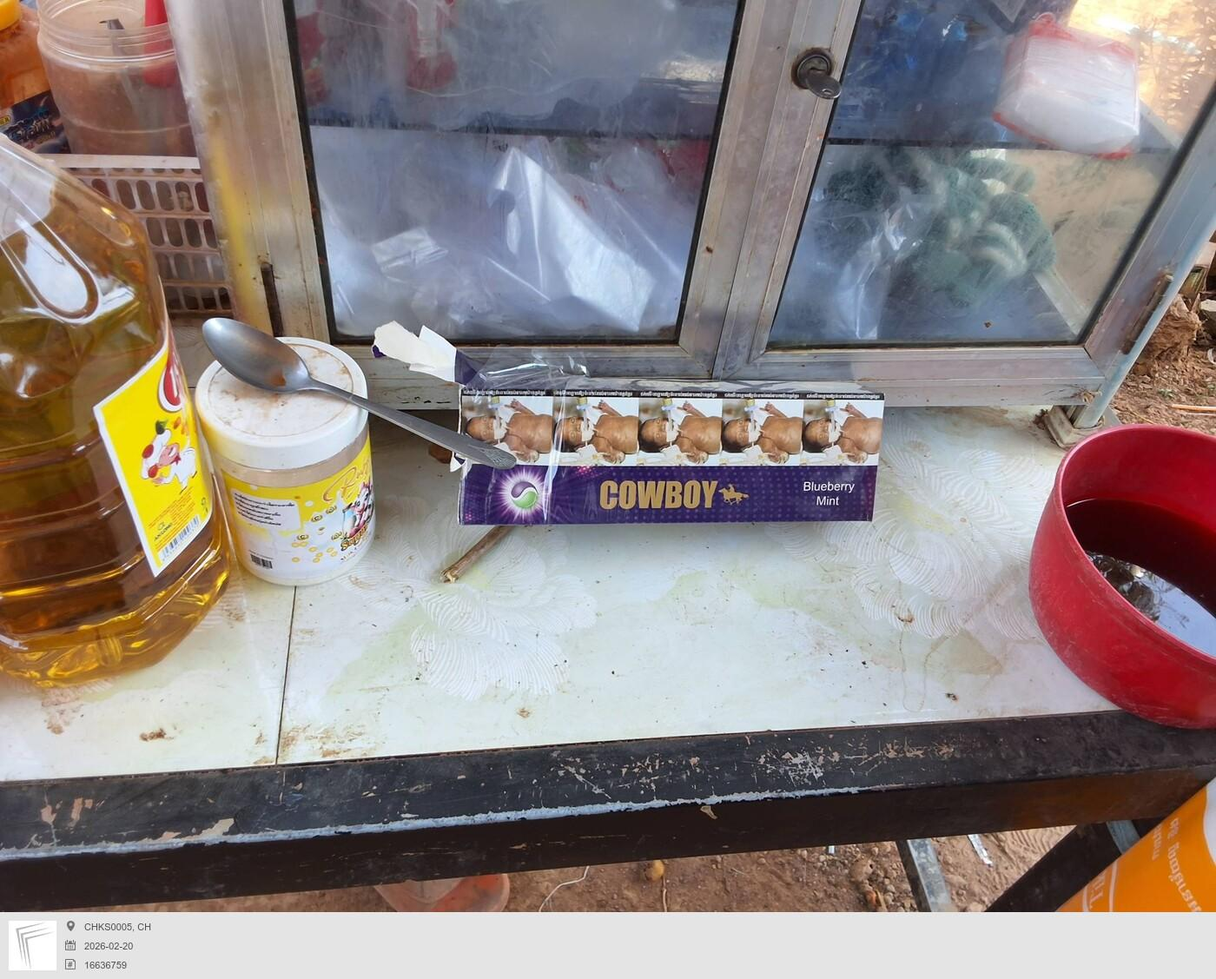cigarette_pack: (458, 328, 882, 526)
